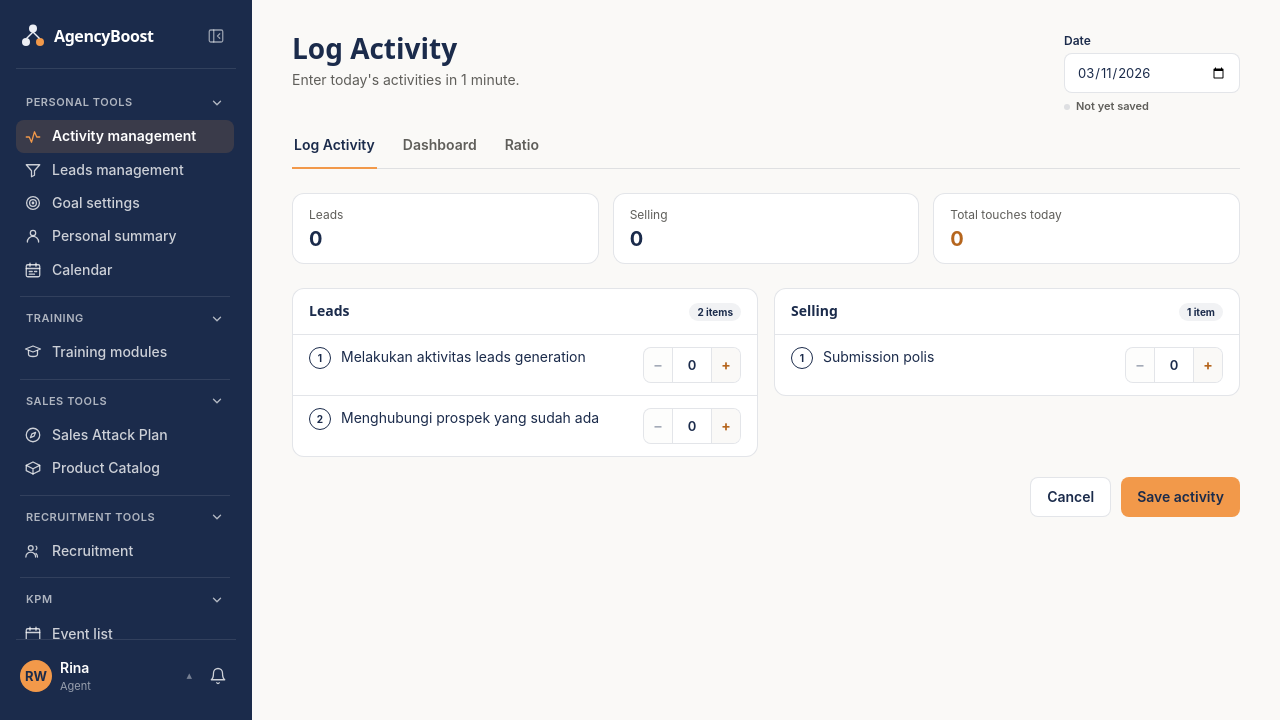
it: Log activity (P6-T2) › P10.1-T5 AC-8: the save status tells the truth › AC-8: saves, then reads Not yet saved on a date that has no entry
Click the button named "Increase Submission polis".
click(1208, 365)  # box [1194,348,1222,382]
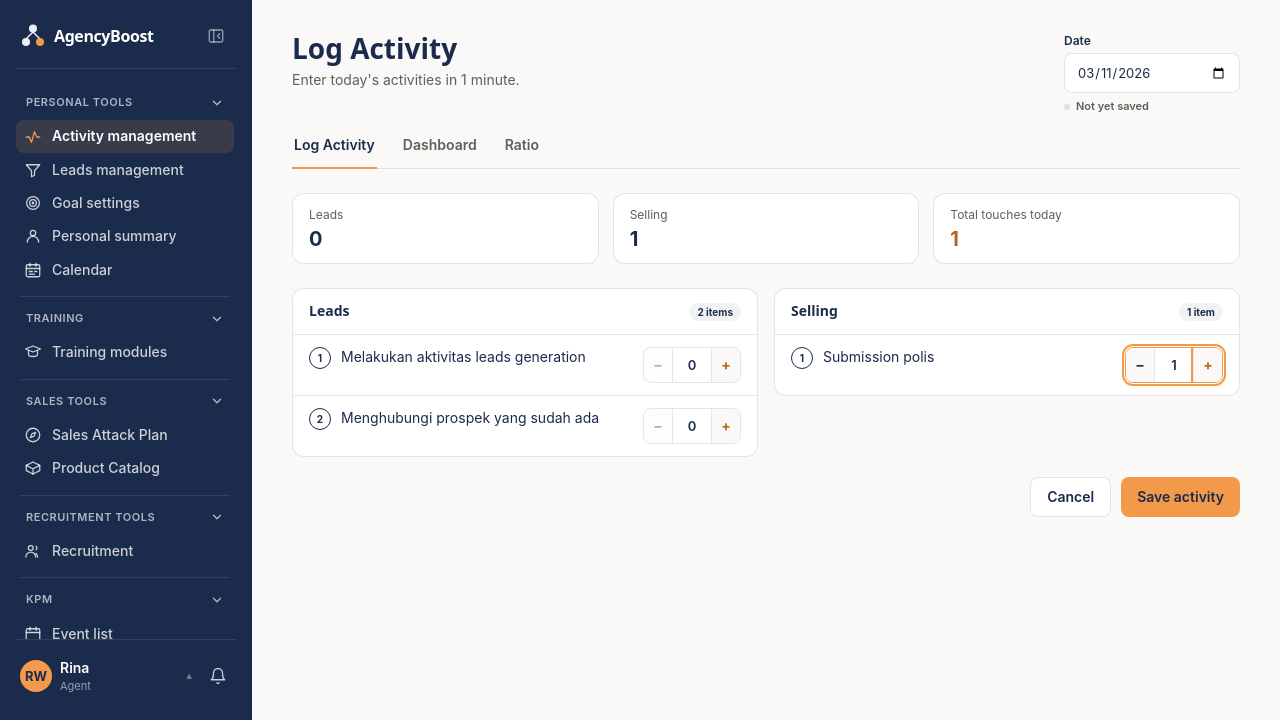
Expected: the message reads "Not yet saved", [1076,99,1149,113]
Click the button "Save activity".
click(1181, 497)  # box [1121,477,1240,517]
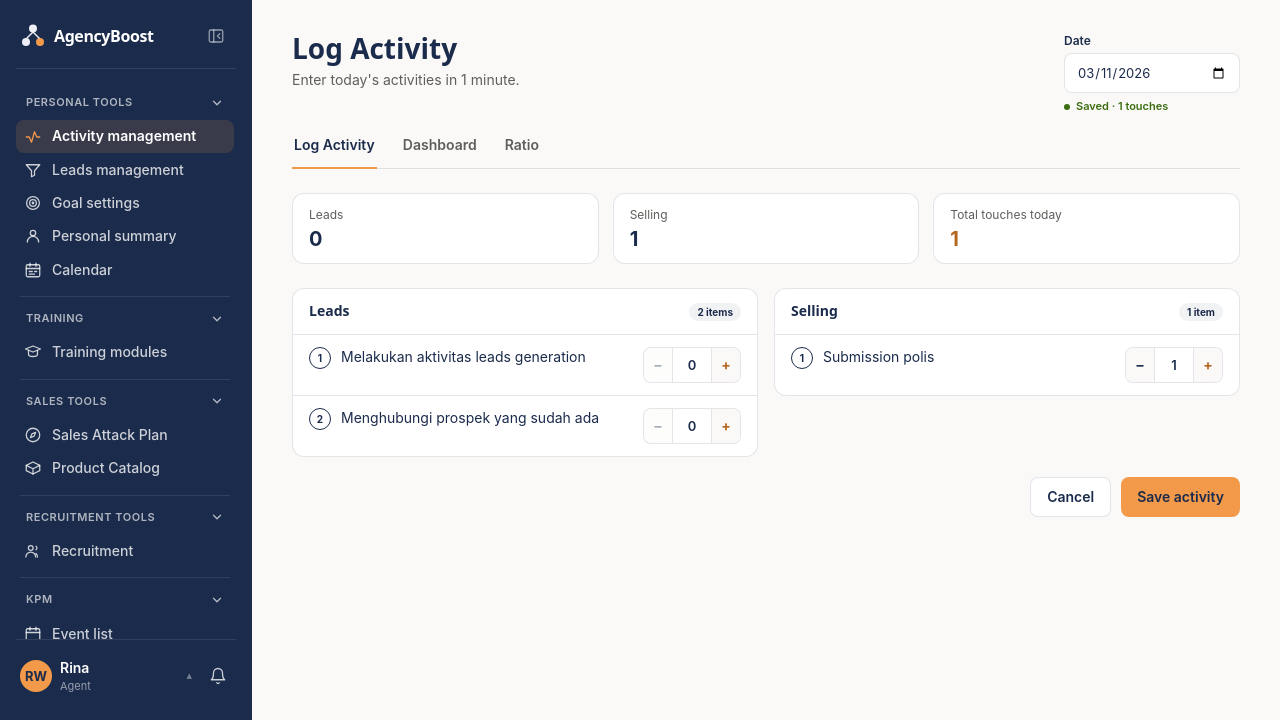
Result: the message reads "Saved · 1 touches" at [1064,99,1168,113]
Type "2026-03-10" into the date field labelled "Date".
click(1152, 73); type("2026-03-10")  # box [1064,53,1240,93]
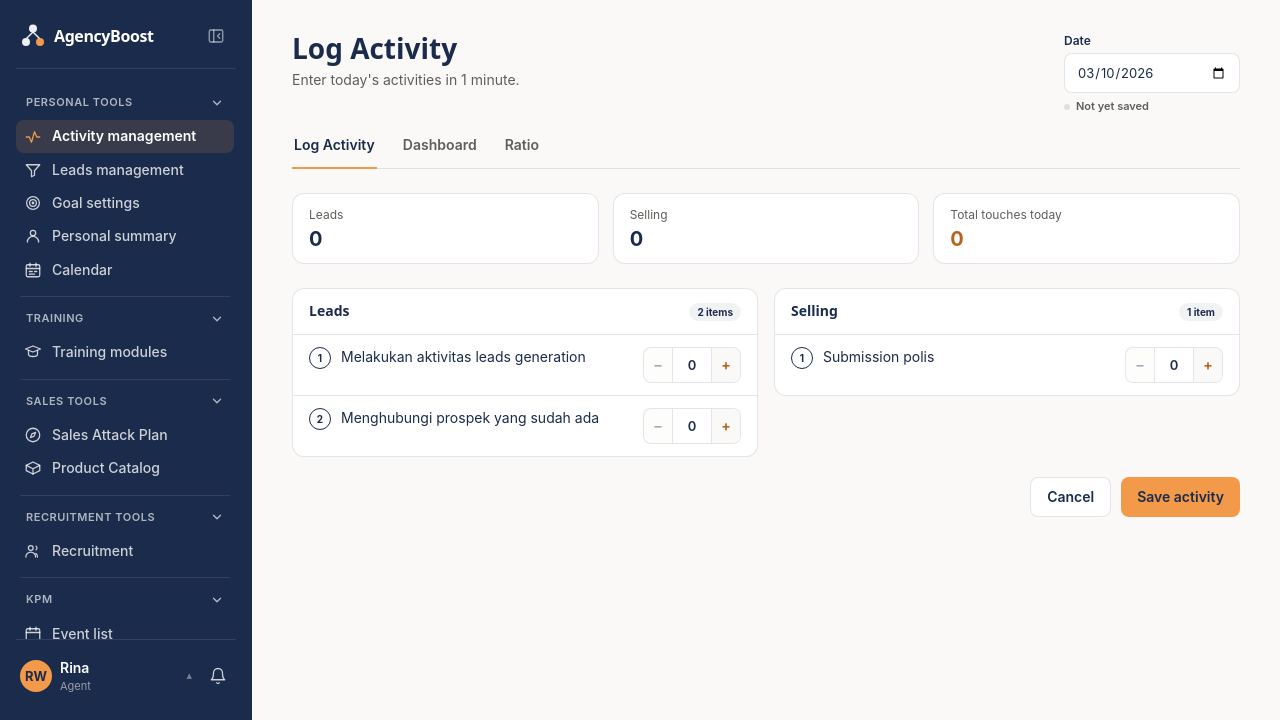
Result: the message reads "Not yet saved" at [1076,99,1149,113]
